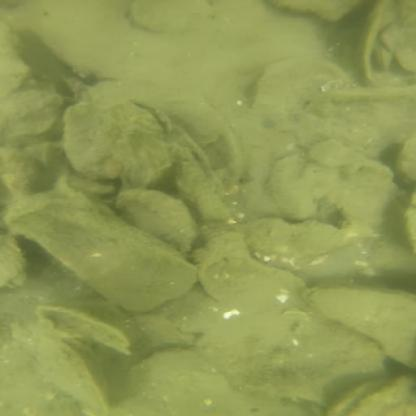3: (64, 99, 174, 179), (37, 321, 109, 416), (178, 131, 234, 221), (327, 374, 416, 416)
Oyster-Closed: (1, 91, 64, 139), (2, 232, 31, 290)
Oyster-Open: (8, 193, 201, 314), (302, 285, 415, 370), (241, 215, 380, 257), (118, 189, 198, 255), (399, 140, 416, 180), (375, 47, 394, 69)
